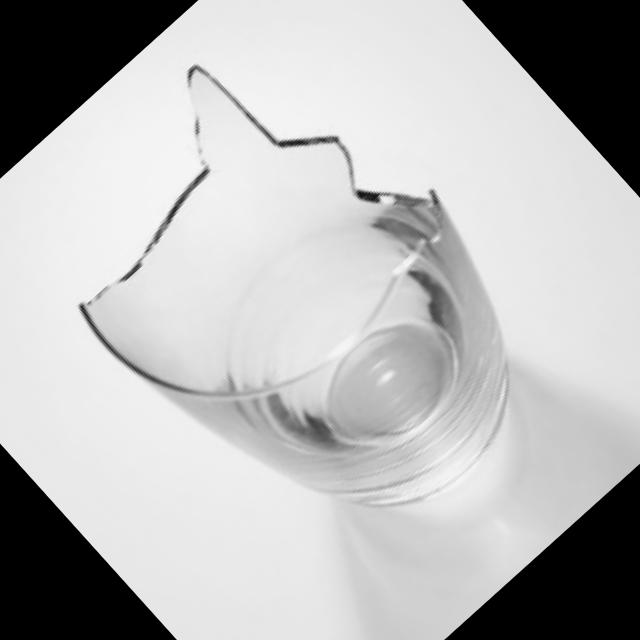PecahanKaca: (0, 0, 589, 597)
